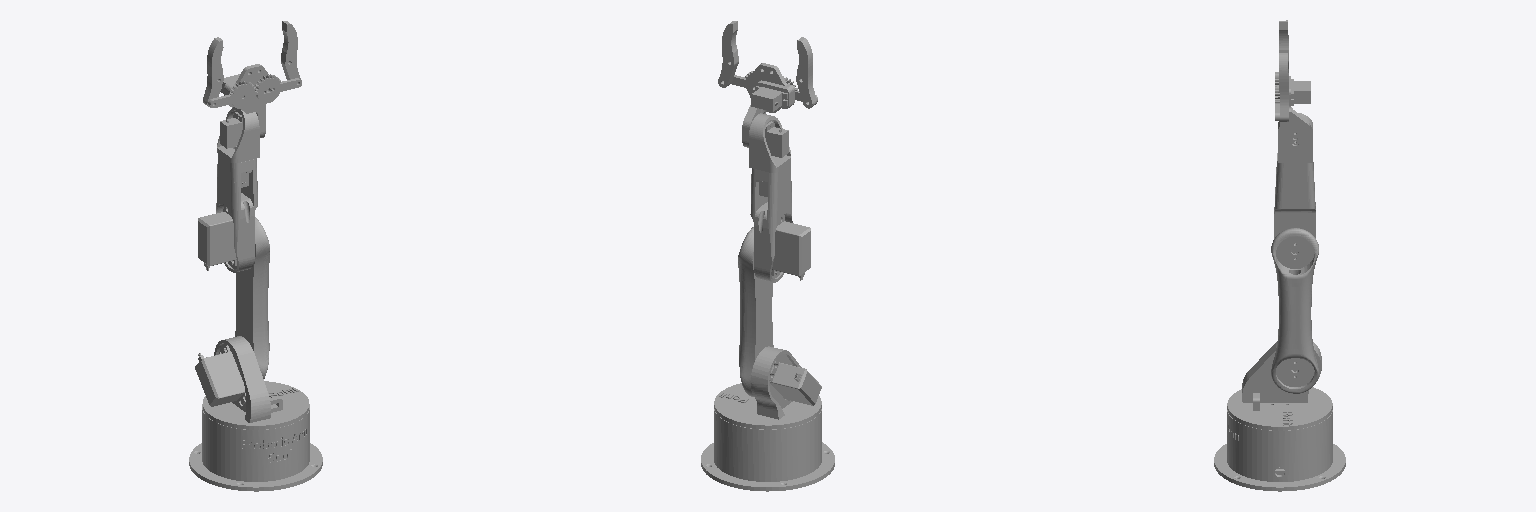
--- Render facts (derived) ---
Views: 3 orthographic renders of the robot side by side, from view 1: azimuth 30°, elevation 25°; view 2: azimuth 150°, elevation 25°; view 3: azimuth 270°, elevation 25°.
Robot: arm_5dof — 16 links, 15 joints (6 revolute, 3 continuous, 6 fixed); root link base_link; default pose: every joint at zero.
Visible links, largest first — view 1: base_link, waist_1, arm1_1, arm2_1, mg996r_1_2, mg996r_1_3, arm3_1, gripper_base_1, gripper1_1, gripper2_1, gear1_1, gear2_1 (+1 smaller); view 2: base_link, waist_1, arm1_1, arm2_1, mg996r_1_3, mg996r_1_2, arm3_1, gripper_base_1, gripper1_1, gripper2_1, sg90_1_3, sg90_1_2; view 3: base_link, arm1_1, waist_1, arm2_1, gripper_base_1, gripper2_1, arm3_1.
Link boxes in pixels (bbox=[...]): base_link: bbox=[189, 404, 322, 491]; waist_1: bbox=[203, 336, 308, 429]; arm1_1: bbox=[235, 217, 269, 378]; arm2_1: bbox=[216, 154, 257, 272]; mg996r_1_2: bbox=[195, 345, 245, 406]; mg996r_1_3: bbox=[198, 206, 236, 270]; arm3_1: bbox=[217, 107, 259, 162]; gripper_base_1: bbox=[224, 64, 269, 137]; gripper1_1: bbox=[203, 37, 223, 107]; gripper2_1: bbox=[281, 21, 300, 79]; gear1_1: bbox=[208, 81, 256, 108]; gear2_1: bbox=[255, 74, 301, 102]; base_link: bbox=[701, 409, 834, 491]; waist_1: bbox=[714, 346, 821, 429]; arm1_1: bbox=[738, 227, 773, 396]; arm2_1: bbox=[750, 163, 792, 282]; mg996r_1_3: bbox=[771, 215, 810, 280]; mg996r_1_2: bbox=[769, 361, 821, 405]; arm3_1: bbox=[749, 113, 790, 172]; gripper_base_1: bbox=[742, 63, 794, 147]; gripper1_1: bbox=[796, 37, 816, 108]; gripper2_1: bbox=[718, 21, 738, 87]; sg90_1_3: bbox=[751, 86, 787, 111]; sg90_1_2: bbox=[765, 121, 788, 157]; base_link: bbox=[1214, 410, 1345, 491]; arm1_1: bbox=[1271, 228, 1318, 393]; waist_1: bbox=[1227, 342, 1332, 430]; arm2_1: bbox=[1274, 153, 1315, 238]; gripper_base_1: bbox=[1280, 76, 1310, 152]; gripper2_1: bbox=[1279, 53, 1288, 121]; arm3_1: bbox=[1278, 113, 1312, 162].
Bounding box of the posed robot: 0.1212 × 0.1212 × 0.4321 m (x, y, z).
16 mesh visuals loaded from 16 distinct referenced files (16 binary STL).

URDF robot description (arm_5dof):
<?xml version="1.0" ?>
<!-- =================================================================================== -->
<!-- |    This document was autogenerated by xacro from [local-path]/robotic_arm/src/arm_5dof_description/urdf/arm_5dof.xacro | -->
<!-- |    EDITING THIS FILE BY HAND IS NOT RECOMMENDED                                 | -->
<!-- =================================================================================== -->
<robot name="arm_5dof">
    <material name="silver">
        <color rgba="0.700 0.700 0.700 1.000" />
    </material>
    <transmission name="joint1_tran">
        <type>transmission_interface/SimpleTransmission</type>
        <joint name="joint1">
            <hardwareInterface>hardware_interface/EffortJointInterface</hardwareInterface>
        </joint>
        <actuator name="joint1_actr">
            <hardwareInterface>hardware_interface/EffortJointInterface</hardwareInterface>
            <mechanicalReduction>1</mechanicalReduction>
        </actuator>
    </transmission>
    <transmission name="joint2_tran">
        <type>transmission_interface/SimpleTransmission</type>
        <joint name="joint2">
            <hardwareInterface>hardware_interface/EffortJointInterface</hardwareInterface>
        </joint>
        <actuator name="joint2_actr">
            <hardwareInterface>hardware_interface/EffortJointInterface</hardwareInterface>
            <mechanicalReduction>1</mechanicalReduction>
        </actuator>
    </transmission>
    <transmission name="joint3_tran">
        <type>transmission_interface/SimpleTransmission</type>
        <joint name="joint3">
            <hardwareInterface>hardware_interface/EffortJointInterface</hardwareInterface>
        </joint>
        <actuator name="joint3_actr">
            <hardwareInterface>hardware_interface/EffortJointInterface</hardwareInterface>
            <mechanicalReduction>1</mechanicalReduction>
        </actuator>
    </transmission>
    <transmission name="joint4_tran">
        <type>transmission_interface/SimpleTransmission</type>
        <joint name="joint4">
            <hardwareInterface>hardware_interface/EffortJointInterface</hardwareInterface>
        </joint>
        <actuator name="joint4_actr">
            <hardwareInterface>hardware_interface/EffortJointInterface</hardwareInterface>
            <mechanicalReduction>1</mechanicalReduction>
        </actuator>
    </transmission>
    <transmission name="keep1_tran">
        <type>transmission_interface/SimpleTransmission</type>
        <joint name="keep1">
            <hardwareInterface>hardware_interface/EffortJointInterface</hardwareInterface>
        </joint>
        <actuator name="keep1_actr">
            <hardwareInterface>hardware_interface/EffortJointInterface</hardwareInterface>
            <mechanicalReduction>1</mechanicalReduction>
        </actuator>
    </transmission>
    <transmission name="keep2_tran">
        <type>transmission_interface/SimpleTransmission</type>
        <joint name="keep2">
            <hardwareInterface>hardware_interface/EffortJointInterface</hardwareInterface>
        </joint>
        <actuator name="keep2_actr">
            <hardwareInterface>hardware_interface/EffortJointInterface</hardwareInterface>
            <mechanicalReduction>1</mechanicalReduction>
        </actuator>
    </transmission>
    <transmission name="joint5_tran">
        <type>transmission_interface/SimpleTransmission</type>
        <joint name="joint5">
            <hardwareInterface>hardware_interface/EffortJointInterface</hardwareInterface>
        </joint>
        <actuator name="joint5_actr">
            <hardwareInterface>hardware_interface/EffortJointInterface</hardwareInterface>
            <mechanicalReduction>1</mechanicalReduction>
        </actuator>
    </transmission>
    <transmission name="joint6_tran">
        <type>transmission_interface/SimpleTransmission</type>
        <joint name="joint6">
            <hardwareInterface>hardware_interface/EffortJointInterface</hardwareInterface>
        </joint>
        <actuator name="joint6_actr">
            <hardwareInterface>hardware_interface/EffortJointInterface</hardwareInterface>
            <mechanicalReduction>1</mechanicalReduction>
        </actuator>
    </transmission>
    <transmission name="joint7_tran">
        <type>transmission_interface/SimpleTransmission</type>
        <joint name="joint7">
            <hardwareInterface>hardware_interface/EffortJointInterface</hardwareInterface>
        </joint>
        <actuator name="joint7_actr">
            <hardwareInterface>hardware_interface/EffortJointInterface</hardwareInterface>
            <mechanicalReduction>1</mechanicalReduction>
        </actuator>
    </transmission>
    <gazebo>
        <plugin filename="libgazebo_ros_control.so" name="control" />
        <plugin name="gazebo_ros_control">
            <robotNamespace>/</robotNamespace>
        </plugin>
    </gazebo>
    <gazebo reference="base_link">
        <material>Gazebo/Silver</material>
        <mu1>0.2</mu1>
        <mu2>0.2</mu2>
        <selfCollide>true</selfCollide>
        <gravity>true</gravity>
    </gazebo>
    <gazebo reference="waist_1">
        <material>Gazebo/Silver</material>
        <mu1>0.2</mu1>
        <mu2>0.2</mu2>
        <selfCollide>true</selfCollide>
    </gazebo>
    <gazebo reference="arm1_1">
        <material>Gazebo/Silver</material>
        <mu1>0.2</mu1>
        <mu2>0.2</mu2>
        <selfCollide>true</selfCollide>
    </gazebo>
    <gazebo reference="arm2_1">
        <material>Gazebo/Silver</material>
        <mu1>0.2</mu1>
        <mu2>0.2</mu2>
        <selfCollide>true</selfCollide>
    </gazebo>
    <gazebo reference="arm3_1">
        <material>Gazebo/Silver</material>
        <mu1>0.2</mu1>
        <mu2>0.2</mu2>
        <selfCollide>true</selfCollide>
    </gazebo>
    <gazebo reference="gripper1_1">
        <material>Gazebo/Silver</material>
        <mu1>0.2</mu1>
        <mu2>0.2</mu2>
        <selfCollide>true</selfCollide>
    </gazebo>
    <gazebo reference="gripper2_1">
        <material>Gazebo/Silver</material>
        <mu1>0.2</mu1>
        <mu2>0.2</mu2>
        <selfCollide>true</selfCollide>
    </gazebo>
    <gazebo reference="gripper_base_1">
        <material>Gazebo/Silver</material>
        <mu1>0.2</mu1>
        <mu2>0.2</mu2>
        <selfCollide>true</selfCollide>
    </gazebo>
    <gazebo reference="gear1_1">
        <material>Gazebo/Silver</material>
        <mu1>0.2</mu1>
        <mu2>0.2</mu2>
        <selfCollide>true</selfCollide>
    </gazebo>
    <gazebo reference="gear2_1">
        <material>Gazebo/Silver</material>
        <mu1>0.2</mu1>
        <mu2>0.2</mu2>
        <selfCollide>true</selfCollide>
    </gazebo>
    <gazebo reference="sg90_1_1">
        <material>Gazebo/Silver</material>
        <mu1>0.2</mu1>
        <mu2>0.2</mu2>
        <selfCollide>true</selfCollide>
    </gazebo>
    <gazebo reference="sg90_1_2">
        <material>Gazebo/Silver</material>
        <mu1>0.2</mu1>
        <mu2>0.2</mu2>
        <selfCollide>true</selfCollide>
    </gazebo>
    <gazebo reference="sg90_1_3">
        <material>Gazebo/Silver</material>
        <mu1>0.2</mu1>
        <mu2>0.2</mu2>
        <selfCollide>true</selfCollide>
    </gazebo>
    <gazebo reference="mg996r_1_1">
        <material>Gazebo/Silver</material>
        <mu1>0.2</mu1>
        <mu2>0.2</mu2>
        <selfCollide>true</selfCollide>
    </gazebo>
    <gazebo reference="mg996r_1_2">
        <material>Gazebo/Silver</material>
        <mu1>0.2</mu1>
        <mu2>0.2</mu2>
        <selfCollide>true</selfCollide>
    </gazebo>
    <gazebo reference="mg996r_1_3">
        <material>Gazebo/Silver</material>
        <mu1>0.2</mu1>
        <mu2>0.2</mu2>
        <selfCollide>true</selfCollide>
    </gazebo>
    <link name="base_link">
        <inertial>
            <origin rpy="0 0 0" xyz="0.003838009810151215 0.0004461779457259607 0.02286877876994561" />
            <mass value="0.7522188043041829" />
            <inertia ixx="0.001001" ixy="0.0" ixz="3.1e-05" iyy="0.00108" iyz="-1e-06" izz="0.001629" />
        </inertial>
        <visual>
            <origin rpy="0 0 0" xyz="0 0 0" />
            <geometry>
                <mesh filename="package://arm_5dof_description/meshes/base_link.stl" scale="0.001 0.001 0.001" />
            </geometry>
            <material name="silver" />
        </visual>
        <collision>
            <origin rpy="0 0 0" xyz="0 0 0" />
            <geometry>
                <mesh filename="package://arm_5dof_description/meshes/base_link.stl" scale="0.001 0.001 0.001" />
            </geometry>
        </collision>
    </link>
    <link name="waist_1">
        <inertial>
            <origin rpy="0 0 0" xyz="-0.006392051753752244 0.001401748909597569 0.01727759625271507" />
            <mass value="0.5354437528567239" />
            <inertia ixx="0.000458" ixy="5e-06" ixz="4.1e-05" iyy="0.000356" iyz="-4.9e-05" izz="0.000432" />
        </inertial>
        <visual>
            <origin rpy="0 0 0" xyz="-0.003713 -0.000323 -0.056611" />
            <geometry>
                <mesh filename="package://arm_5dof_description/meshes/waist_1.stl" scale="0.001 0.001 0.001" />
            </geometry>
            <material name="silver" />
        </visual>
        <collision>
            <origin rpy="0 0 0" xyz="-0.003713 -0.000323 -0.056611" />
            <geometry>
                <mesh filename="package://arm_5dof_description/meshes/waist_1.stl" scale="0.001 0.001 0.001" />
            </geometry>
        </collision>
    </link>
    <link name="arm1_1">
        <inertial>
            <origin rpy="0 0 0" xyz="0.007777186996678871 7.774960774779502e-06 0.06126573841870464" />
            <mass value="0.5212036434465369" />
            <inertia ixx="0.000993" ixy="0.0" ixz="-2e-06" iyy="0.000951" iyz="-0.0" izz="7.6e-05" />
        </inertial>
        <visual>
            <origin rpy="0 0 0" xyz="0.000287 -0.014242 -0.096887" />
            <geometry>
                <mesh filename="package://arm_5dof_description/meshes/arm1_1.stl" scale="0.001 0.001 0.001" />
            </geometry>
            <material name="silver" />
        </visual>
        <collision>
            <origin rpy="0 0 0" xyz="0.000287 -0.014242 -0.096887" />
            <geometry>
                <mesh filename="package://arm_5dof_description/meshes/arm1_1.stl" scale="0.001 0.001 0.001" />
            </geometry>
        </collision>
    </link>
    <link name="arm2_1">
        <inertial>
            <origin rpy="0 0 0" xyz="-0.0074056876684373924 -2.2168026232168708e-05 0.03928210706367469" />
            <mass value="0.3945467908121779" />
            <inertia ixx="0.000457" ixy="-0.0" ixz="2e-06" iyy="0.000429" iyz="1e-06" izz="7.3e-05" />
        </inertial>
        <visual>
            <origin rpy="0 0 0" xyz="0.000287 -0.014242 -0.216887" />
            <geometry>
                <mesh filename="package://arm_5dof_description/meshes/arm2_1.stl" scale="0.001 0.001 0.001" />
            </geometry>
            <material name="silver" />
        </visual>
        <collision>
            <origin rpy="0 0 0" xyz="0.000287 -0.014242 -0.216887" />
            <geometry>
                <mesh filename="package://arm_5dof_description/meshes/arm2_1.stl" scale="0.001 0.001 0.001" />
            </geometry>
        </collision>
    </link>
    <link name="arm3_1">
        <inertial>
            <origin rpy="0 0 0" xyz="0.005266858431944335 -0.005042877072588029 0.01784090117232645" />
            <mass value="0.12951657013229365" />
            <inertia ixx="3.9e-05" ixy="-0.0" ixz="-5e-06" iyy="3.1e-05" iyz="-0.0" izz="2.1e-05" />
        </inertial>
        <visual>
            <origin rpy="0 0 0" xyz="0.007787 -0.019542 -0.306637" />
            <geometry>
                <mesh filename="package://arm_5dof_description/meshes/arm3_1.stl" scale="0.001 0.001 0.001" />
            </geometry>
            <material name="silver" />
        </visual>
        <collision>
            <origin rpy="0 0 0" xyz="0.007787 -0.019542 -0.306637" />
            <geometry>
                <mesh filename="package://arm_5dof_description/meshes/arm3_1.stl" scale="0.001 0.001 0.001" />
            </geometry>
        </collision>
    </link>
    <link name="gripper1_1">
        <inertial>
            <origin rpy="0 0 0" xyz="0.004578043352201293 0.003949278321660978 0.026923966453247516" />
            <mass value="0.04237033350998682" />
            <inertia ixx="1.3e-05" ixy="0.0" ixz="-1e-06" iyy="1.3e-05" iyz="0.0" izz="1e-06" />
        </inertial>
        <visual>
            <origin rpy="0 0 0" xyz="0.042429 -0.000102 -0.372478" />
            <geometry>
                <mesh filename="package://arm_5dof_description/meshes/gripper1_1.stl" scale="0.001 0.001 0.001" />
            </geometry>
            <material name="silver" />
        </visual>
        <collision>
            <origin rpy="0 0 0" xyz="0.042429 -0.000102 -0.372478" />
            <geometry>
                <mesh filename="package://arm_5dof_description/meshes/gripper1_1.stl" scale="0.001 0.001 0.001" />
            </geometry>
        </collision>
    </link>
    <link name="gripper2_1">
        <inertial>
            <origin rpy="0 0 0" xyz="-0.004117256812935996 0.003945625879510171 0.026999145762990784" />
            <mass value="0.042370329631280915" />
            <inertia ixx="1.3e-05" ixy="-0.0" ixz="1e-06" iyy="1.3e-05" iyz="0.0" izz="1e-06" />
        </inertial>
        <visual>
            <origin rpy="0 0 0" xyz="-0.045971 -0.000138 -0.372478" />
            <geometry>
                <mesh filename="package://arm_5dof_description/meshes/gripper2_1.stl" scale="0.001 0.001 0.001" />
            </geometry>
            <material name="silver" />
        </visual>
        <collision>
            <origin rpy="0 0 0" xyz="-0.045971 -0.000138 -0.372478" />
            <geometry>
                <mesh filename="package://arm_5dof_description/meshes/gripper2_1.stl" scale="0.001 0.001 0.001" />
            </geometry>
        </collision>
    </link>
    <link name="gripper_base_1">
        <inertial>
            <origin rpy="0 0 0" xyz="-0.0019741960439591272 -0.006082068799121706 0.023484597423749975" />
            <mass value="0.12341306540761511" />
            <inertia ixx="5.7e-05" ixy="-3e-06" ixz="1.1e-05" iyy="6.3e-05" iyz="1.1e-05" izz="2e-05" />
        </inertial>
        <visual>
            <origin rpy="0 0 0" xyz="-0.006215 -0.014548 -0.334637" />
            <geometry>
                <mesh filename="package://arm_5dof_description/meshes/gripper_base_1.stl" scale="0.001 0.001 0.001" />
            </geometry>
            <material name="silver" />
        </visual>
        <collision>
            <origin rpy="0 0 0" xyz="-0.006215 -0.014548 -0.334637" />
            <geometry>
                <mesh filename="package://arm_5dof_description/meshes/gripper_base_1.stl" scale="0.001 0.001 0.001" />
            </geometry>
        </collision>
    </link>
    <link name="gear1_1">
        <inertial>
            <origin rpy="0 0 0" xyz="-0.00557822139075125 -0.0020086168818973663 0.0005788433778717295" />
            <mass value="0.020736163200801024" />
            <inertia ixx="1e-06" ixy="-0.0" ixz="-0.0" iyy="4e-06" iyz="0.0" izz="3e-06" />
        </inertial>
        <visual>
            <origin rpy="0 0 0" xyz="0.011679 -0.000114 -0.372478" />
            <geometry>
                <mesh filename="package://arm_5dof_description/meshes/gear1_1.stl" scale="0.001 0.001 0.001" />
            </geometry>
            <material name="silver" />
        </visual>
        <collision>
            <origin rpy="0 0 0" xyz="0.011679 -0.000114 -0.372478" />
            <geometry>
                <mesh filename="package://arm_5dof_description/meshes/gear1_1.stl" scale="0.001 0.001 0.001" />
            </geometry>
        </collision>
    </link>
    <link name="gear2_1">
        <inertial>
            <origin rpy="0 0 0" xyz="0.005666401849291939 -0.0020039311247486507 0.0005815410560265355" />
            <mass value="0.020141547493382938" />
            <inertia ixx="1e-06" ixy="-0.0" ixz="0.0" iyy="4e-06" iyz="0.0" izz="3e-06" />
        </inertial>
        <visual>
            <origin rpy="0 0 0" xyz="-0.015221 -0.000125 -0.372478" />
            <geometry>
                <mesh filename="package://arm_5dof_description/meshes/gear2_1.stl" scale="0.001 0.001 0.001" />
            </geometry>
            <material name="silver" />
        </visual>
        <collision>
            <origin rpy="0 0 0" xyz="-0.015221 -0.000125 -0.372478" />
            <geometry>
                <mesh filename="package://arm_5dof_description/meshes/gear2_1.stl" scale="0.001 0.001 0.001" />
            </geometry>
        </collision>
    </link>
    <link name="sg90_1_1">
        <inertial>
            <origin rpy="0 0 0" xyz="-1.350399744179387e-07 0.013371543082314133 -0.005539058375771733" />
            <mass value="0.1678780953403671" />
            <inertia ixx="1.7e-05" ixy="-0.0" ixz="0.0" iyy="1.1e-05" iyz="1e-06" izz="1e-05" />
        </inertial>
        <visual>
            <origin rpy="0 0 0" xyz="0.007787 -0.000442 -0.296637" />
            <geometry>
                <mesh filename="package://arm_5dof_description/meshes/sg90_1_1.stl" scale="0.001 0.001 0.001" />
            </geometry>
            <material name="silver" />
        </visual>
        <collision>
            <origin rpy="0 0 0" xyz="0.007787 -0.000442 -0.296637" />
            <geometry>
                <mesh filename="package://arm_5dof_description/meshes/sg90_1_1.stl" scale="0.001 0.001 0.001" />
            </geometry>
        </collision>
    </link>
    <link name="sg90_1_2">
        <inertial>
            <origin rpy="0 0 0" xyz="-0.0055394403309275515 -1.861104244056666e-06 0.014228730965407776" />
            <mass value="0.1678780953403671" />
            <inertia ixx="1e-05" ixy="-0.0" ixz="-1e-06" iyy="1.7e-05" iyz="-0.0" izz="1.1e-05" />
        </inertial>
        <visual>
            <origin rpy="0 0 0" xyz="0.004285 -0.014543 -0.315837" />
            <geometry>
                <mesh filename="package://arm_5dof_description/meshes/sg90_1_2.stl" scale="0.001 0.001 0.001" />
            </geometry>
            <material name="silver" />
        </visual>
        <collision>
            <origin rpy="0 0 0" xyz="0.004285 -0.014543 -0.315837" />
            <geometry>
                <mesh filename="package://arm_5dof_description/meshes/sg90_1_2.stl" scale="0.001 0.001 0.001" />
            </geometry>
        </collision>
    </link>
    <link name="sg90_1_3">
        <inertial>
            <origin rpy="0 0 0" xyz="0.013368816698144156 0.005544542448326065 6.180991207238584e-05" />
            <mass value="0.1678780953403671" />
            <inertia ixx="1.1e-05" ixy="-1e-06" ixz="-0.0" iyy="1e-05" iyz="-0.0" izz="1.7e-05" />
        </inertial>
        <visual>
            <origin rpy="0 0 0" xyz="0.020483 -0.01061 -0.372596" />
            <geometry>
                <mesh filename="package://arm_5dof_description/meshes/sg90_1_3.stl" scale="0.001 0.001 0.001" />
            </geometry>
            <material name="silver" />
        </visual>
        <collision>
            <origin rpy="0 0 0" xyz="0.020483 -0.01061 -0.372596" />
            <geometry>
                <mesh filename="package://arm_5dof_description/meshes/sg90_1_3.stl" scale="0.001 0.001 0.001" />
            </geometry>
        </collision>
    </link>
    <link name="mg996r_1_1">
        <inertial>
            <origin rpy="0 0 0" xyz="-0.023509816880881013 0.005000482971852852 -0.010842185562066939" />
            <mass value="0.7977944565420556" />
            <inertia ixx="0.000138" ixy="-0.0" ixz="-6e-06" iyy="0.000226" iyz="-0.0" izz="0.000142" />
        </inertial>
        <visual>
            <origin rpy="0 0 0" xyz="-0.017463 0.004677 -0.038611" />
            <geometry>
                <mesh filename="package://arm_5dof_description/meshes/mg996r_1_1.stl" scale="0.001 0.001 0.001" />
            </geometry>
            <material name="silver" />
        </visual>
        <collision>
            <origin rpy="0 0 0" xyz="-0.017463 0.004677 -0.038611" />
            <geometry>
                <mesh filename="package://arm_5dof_description/meshes/mg996r_1_1.stl" scale="0.001 0.001 0.001" />
            </geometry>
        </collision>
    </link>
    <link name="mg996r_1_2">
        <inertial>
            <origin rpy="0 0 0" xyz="-0.010842080696952678 0.013781838936363068 0.02085308595696858" />
            <mass value="0.7977944565420556" />
            <inertia ixx="0.000142" ixy="-5e-06" ixz="-5e-06" iyy="0.000182" iyz="-4.4e-05" izz="0.000182" />
        </inertial>
        <visual>
            <origin rpy="0 0 0" xyz="0.014287 0.006441 -0.069133" />
            <geometry>
                <mesh filename="package://arm_5dof_description/meshes/mg996r_1_2.stl" scale="0.001 0.001 0.001" />
            </geometry>
            <material name="silver" />
        </visual>
        <collision>
            <origin rpy="0 0 0" xyz="0.014287 0.006441 -0.069133" />
            <geometry>
                <mesh filename="package://arm_5dof_description/meshes/mg996r_1_2.stl" scale="0.001 0.001 0.001" />
            </geometry>
        </collision>
    </link>
    <link name="mg996r_1_3">
        <inertial>
            <origin rpy="0 0 0" xyz="-0.010842088207209402 0.004999978626369209 0.023509974899488584" />
            <mass value="0.7977944565420556" />
            <inertia ixx="0.000142" ixy="-0.0" ixz="6e-06" iyy="0.000226" iyz="0.0" izz="0.000138" />
        </inertial>
        <visual>
            <origin rpy="0 0 0" xyz="0.013287 -0.009242 -0.203137" />
            <geometry>
                <mesh filename="package://arm_5dof_description/meshes/mg996r_1_3.stl" scale="0.001 0.001 0.001" />
            </geometry>
            <material name="silver" />
        </visual>
        <collision>
            <origin rpy="0 0 0" xyz="0.013287 -0.009242 -0.203137" />
            <geometry>
                <mesh filename="package://arm_5dof_description/meshes/mg996r_1_3.stl" scale="0.001 0.001 0.001" />
            </geometry>
        </collision>
    </link>
    <joint name="joint1" type="revolute">
        <origin rpy="0 0 0" xyz="0.003713 0.000323 0.056611" />
        <parent link="base_link" />
        <child link="waist_1" />
        <axis xyz="0.0 -0.0 1.0" />
        <limit effort="100" lower="-1.570796" upper="1.570796" velocity="100" />
    </joint>
    <joint name="joint2" type="revolute">
        <origin rpy="0 0 0" xyz="-0.004 0.013919 0.040276" />
        <parent link="waist_1" />
        <child link="arm1_1" />
        <axis xyz="1.0 0.0 0.0" />
        <limit effort="100" lower="-1.570796" upper="1.570796" velocity="100" />
    </joint>
    <joint name="joint3" type="revolute">
        <origin rpy="0 0 0" xyz="0.0 0.0 0.12" />
        <parent link="arm1_1" />
        <child link="arm2_1" />
        <axis xyz="-1.0 -0.0 -0.0" />
        <limit effort="100" lower="-1.570796" upper="1.570796" velocity="100" />
    </joint>
    <joint name="joint4" type="revolute">
        <origin rpy="0 0 0" xyz="-0.0075 0.0053 0.08975" />
        <parent link="arm2_1" />
        <child link="arm3_1" />
        <axis xyz="-0.0 0.0 1.0" />
        <limit effort="100" lower="-1.570796" upper="1.570796" velocity="100" />
    </joint>
    <joint name="joint5" type="revolute">
        <origin rpy="0 0 0" xyz="0.014002 -0.004994 0.028" />
        <parent link="arm3_1" />
        <child link="gripper_base_1" />
        <axis xyz="1.0 0.000412 0.0" />
        <limit effort="100" lower="-1.570796" upper="1.570796" velocity="100" />
    </joint>
    <joint name="joint6" type="revolute">
        <origin rpy="0 0 0" xyz="-0.017894 -0.014434 0.037841" />
        <parent link="gripper_base_1" />
        <child link="gear1_1" />
        <axis xyz="0.000412 -0.999937 -0.011235" />
        <limit effort="100" lower="-1.570796" upper="0.0" velocity="100" />
    </joint>
    <joint name="joint7" type="continuous">
        <origin rpy="0 0 0" xyz="0.009006 -0.014423 0.037841" />
        <parent link="gripper_base_1" />
        <child link="gear2_1" />
        <axis xyz="-0.000412 0.999937 0.011235" />
        <mimic joint="joint6" multiplier="1" offset="0" />
    </joint>
    <joint name="keep1" type="continuous">
        <origin rpy="0 0 0" xyz="-0.03075 -1.2e-05 0.0" />
        <parent link="gear1_1" />
        <child link="gripper1_1" />
        <axis xyz="0.000412 -0.999937 -0.011235" />
        <mimic joint="joint6" multiplier="-1" offset="0" />
    </joint>
    <joint name="keep2" type="continuous">
        <origin rpy="0 0 0" xyz="0.03075 1.3e-05 0.0" />
        <parent link="gear2_1" />
        <child link="gripper2_1" />
        <axis xyz="0.000412 -0.999937 -0.011235" />
        <mimic joint="joint6" multiplier="1" offset="0" />
    </joint>
    <joint name="Rigid 30" type="fixed">
        <origin rpy="0 0 0" xyz="-0.0075 -0.0138 0.07975" />
        <parent link="arm2_1" />
        <child link="sg90_1_1" />
    </joint>
    <joint name="Rigid 31" type="fixed">
        <origin rpy="0 0 0" xyz="0.003502 -0.004999 0.0092" />
        <parent link="arm3_1" />
        <child link="sg90_1_2" />
    </joint>
    <joint name="Rigid 32" type="fixed">
        <origin rpy="0 0 0" xyz="-0.026698 -0.003938 0.037959" />
        <parent link="gripper_base_1" />
        <child link="sg90_1_3" />
    </joint>
    <joint name="Rigid 33" type="fixed">
        <origin rpy="0 0 0" xyz="0.017463 -0.004677 0.038611" />
        <parent link="base_link" />
        <child link="mg996r_1_1" />
    </joint>
    <joint name="Rigid 34" type="fixed">
        <origin rpy="0 0 0" xyz="-0.018 -0.006764 0.012522" />
        <parent link="waist_1" />
        <child link="mg996r_1_2" />
    </joint>
    <joint name="Rigid 35" type="fixed">
        <origin rpy="0 0 0" xyz="-0.013 -0.005 -0.01375" />
        <parent link="arm2_1" />
        <child link="mg996r_1_3" />
    </joint>
</robot>
